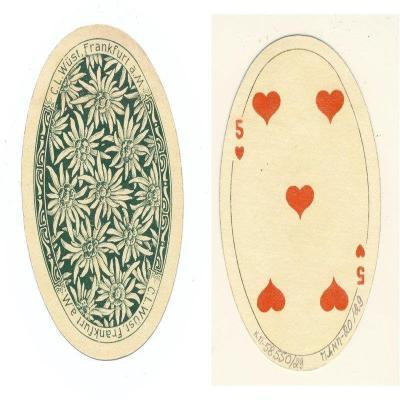graphics: (218, 34, 382, 373), (20, 24, 184, 362)
